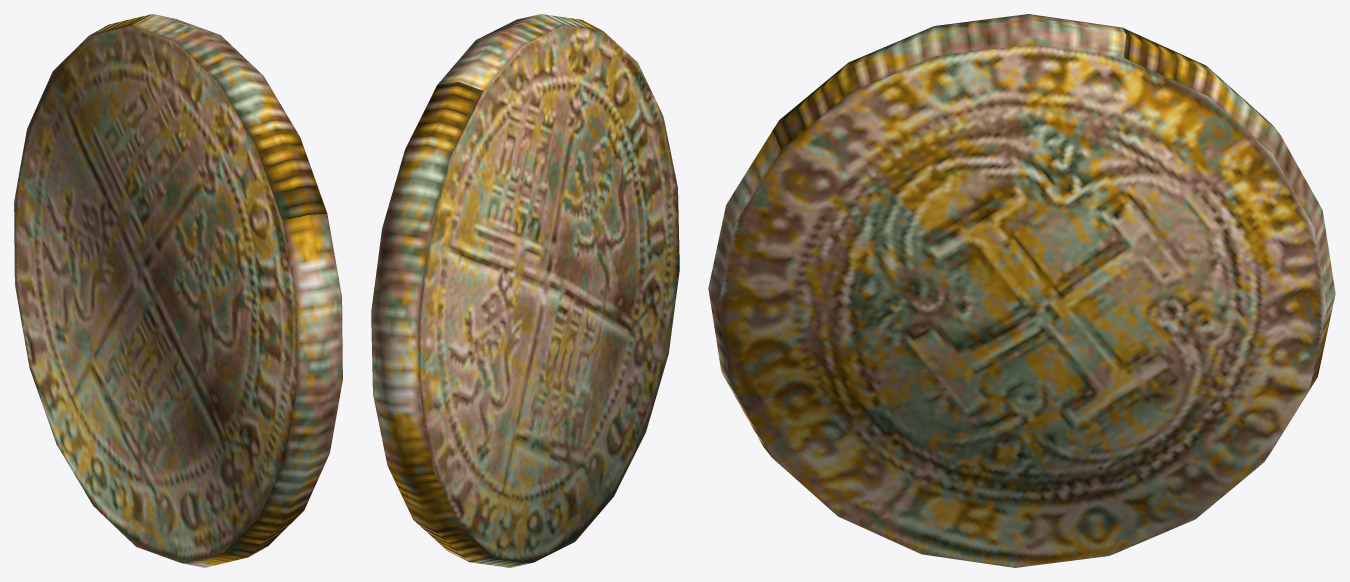
File: coin.fbx
The picture shows the model from 3 angles, left to right: view 1: azimuth 30°, elevation 25°; view 2: azimuth 150°, elevation 25°; view 3: azimuth 270°, elevation 25°; orthographic projection. The views are drawn at different scales.
Parts seen in each view (by area): view 1: MESH_COIN; view 2: MESH_COIN; view 3: MESH_COIN.
Part boxes in pixels (x1,y1,x2,y2): MESH_COIN: (14,14,342,567); MESH_COIN: (371,14,679,567); MESH_COIN: (708,14,1335,567).
Size of the model in its own units: 0.1229 by 0.6325 by 0.6354.
